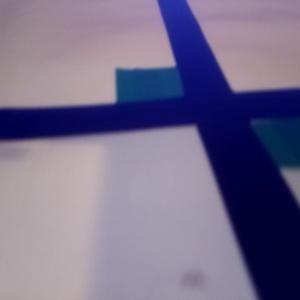bottom_right: (213, 95, 300, 167)
top_left: (115, 67, 219, 122)
